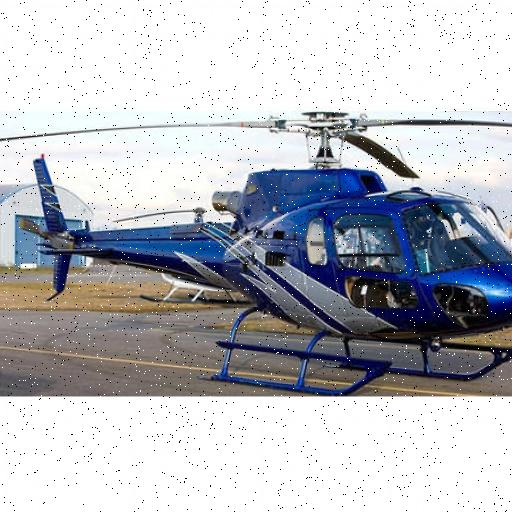helicopter: (1, 112, 512, 395)
